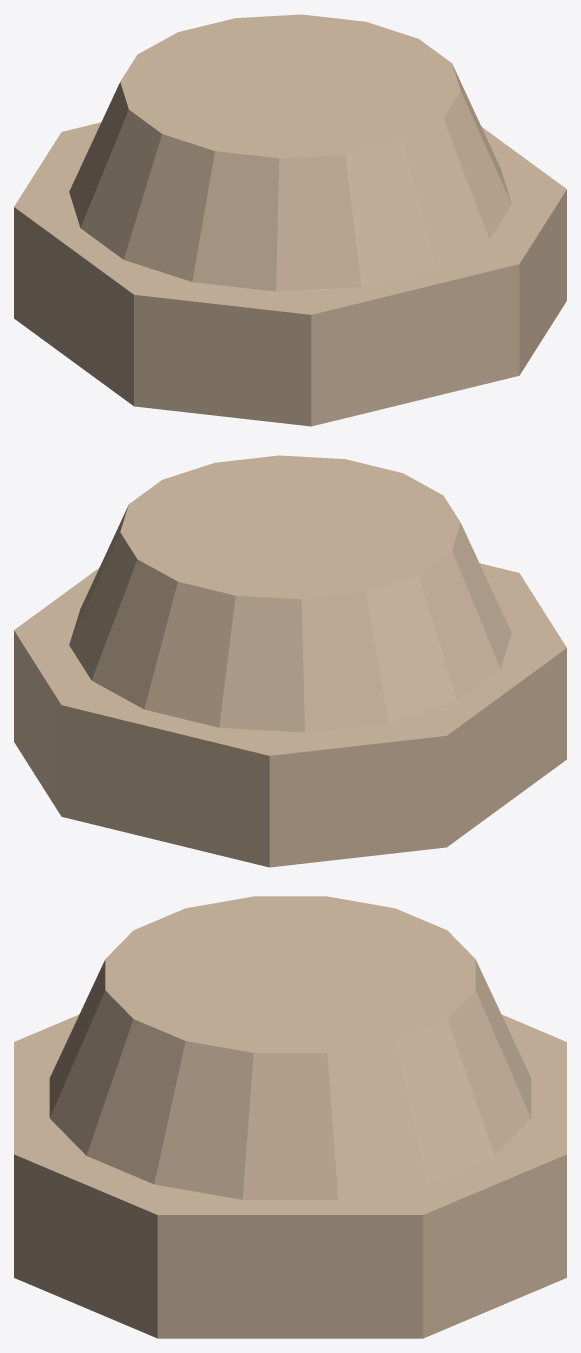
File: Libra_LFO_1_Collider.obj
3 renders of one model, top to bottom at view 1: azimuth 30°, elevation 25°; view 2: azimuth 150°, elevation 25°; view 3: azimuth 270°, elevation 25°, orthographic. The views are drawn at different scales.
Parts seen in each view (by area): view 1: Libra_LFO_1_Collider1, Libra_LFO_1_Collider2; view 2: Libra_LFO_1_Collider1, Libra_LFO_1_Collider2; view 3: Libra_LFO_1_Collider1, Libra_LFO_1_Collider2.
Part boxes in pixels (<box>): Libra_LFO_1_Collider1: <box>69,14,511,291</box>; Libra_LFO_1_Collider2: <box>14,122,566,426</box>; Libra_LFO_1_Collider1: <box>69,455,511,732</box>; Libra_LFO_1_Collider2: <box>14,563,566,867</box>; Libra_LFO_1_Collider1: <box>49,896,531,1199</box>; Libra_LFO_1_Collider2: <box>14,1014,566,1338</box>.
Size of the model in its own units: 1.4 by 0.69 by 1.4.
